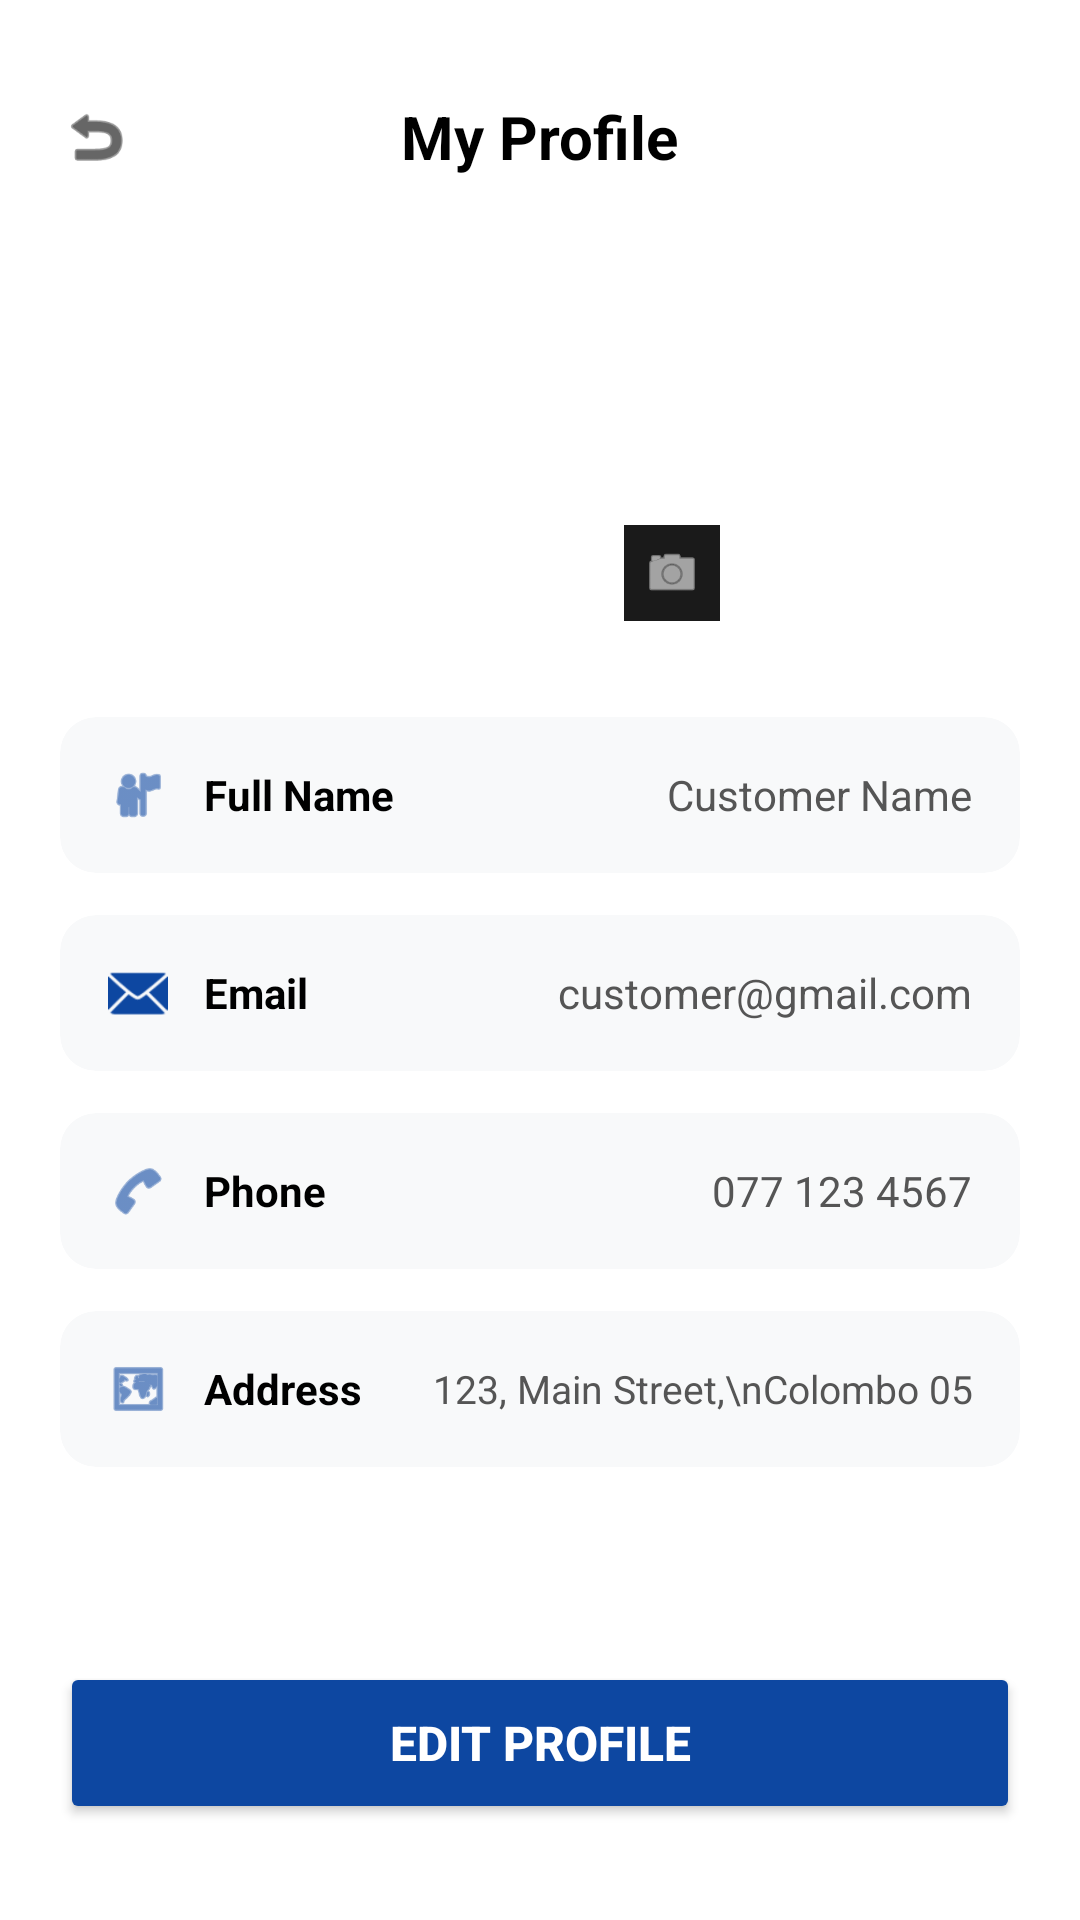

Named icons in this screenshot (1080x1920) and their centers, (x,y):
call: (138,1191)
camera: (672,573)
mapmode: (138,1389)
myplaces: (138,795)
revert: (97,137)
